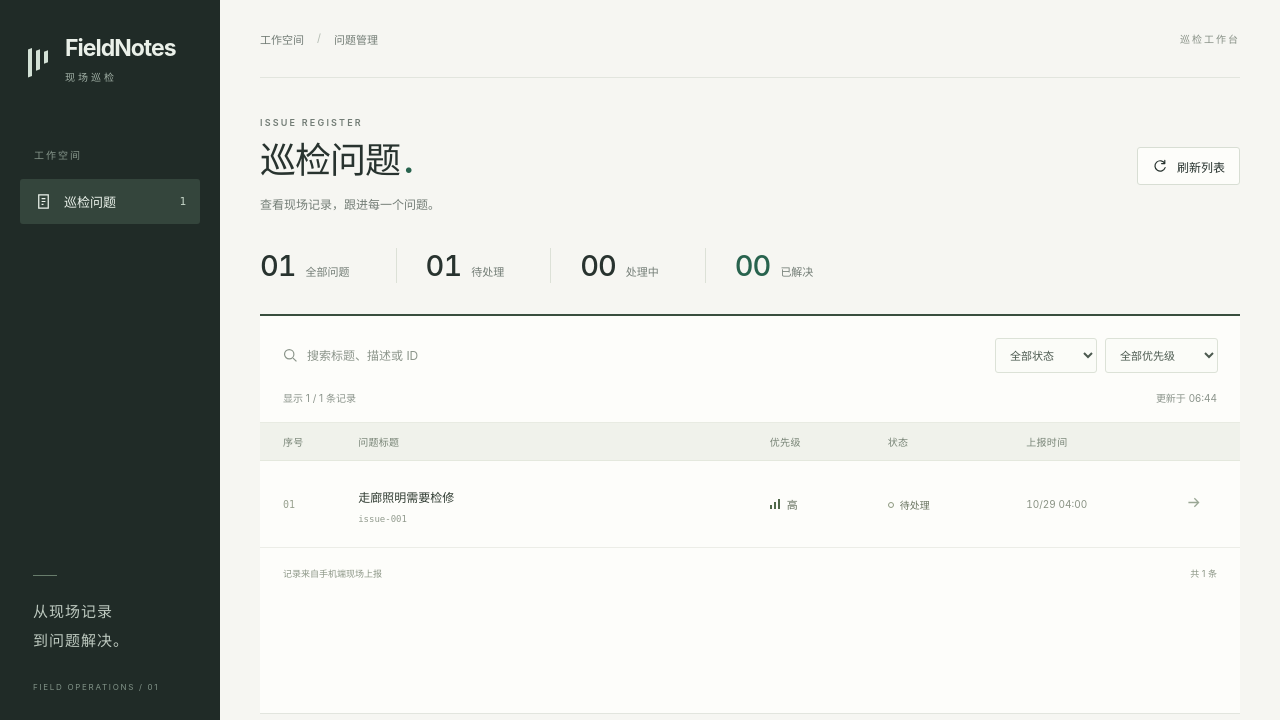
Test: 巡检工作台 › closes a selection removed on refresh and retains old records when refresh fails
This screenshot has width=1280, height=720.
Step 1. Click the button with aria-label "查看问题：走廊照明" → (406, 498), box left=358, top=484, right=454, bottom=512
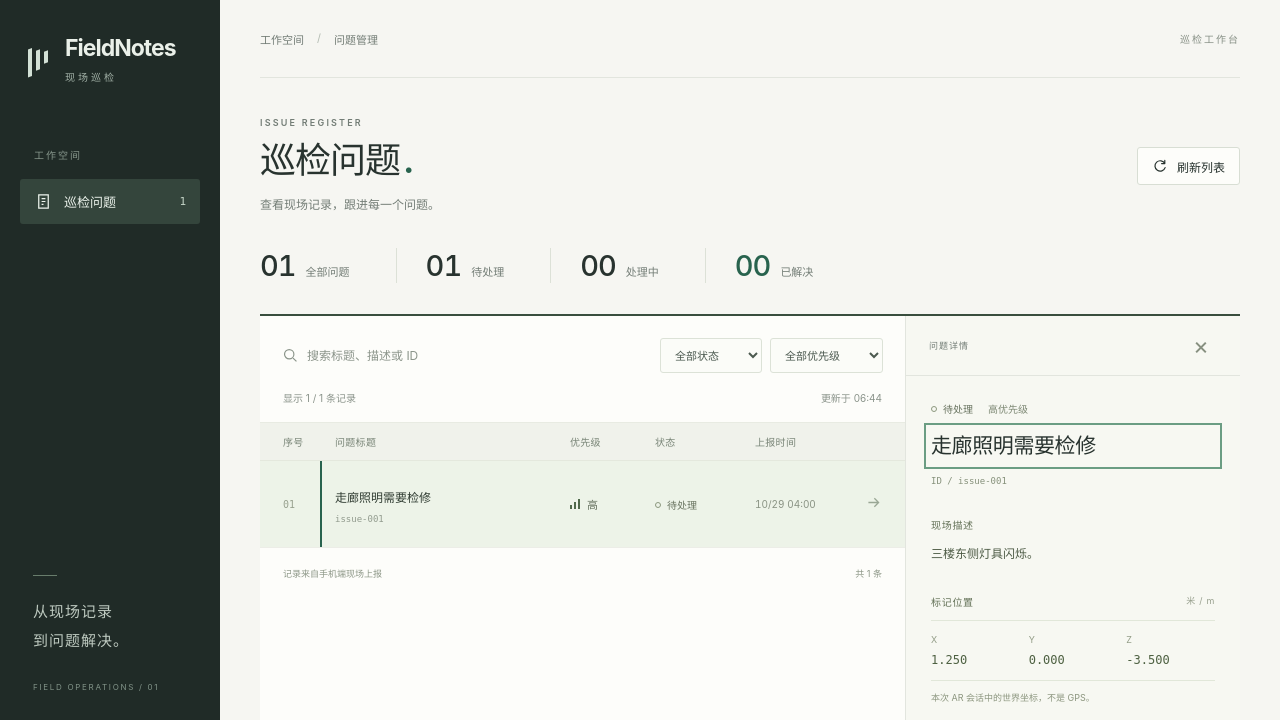
Step 2. Click the button "刷新列表" → (1188, 166), box left=1137, top=147, right=1240, bottom=185
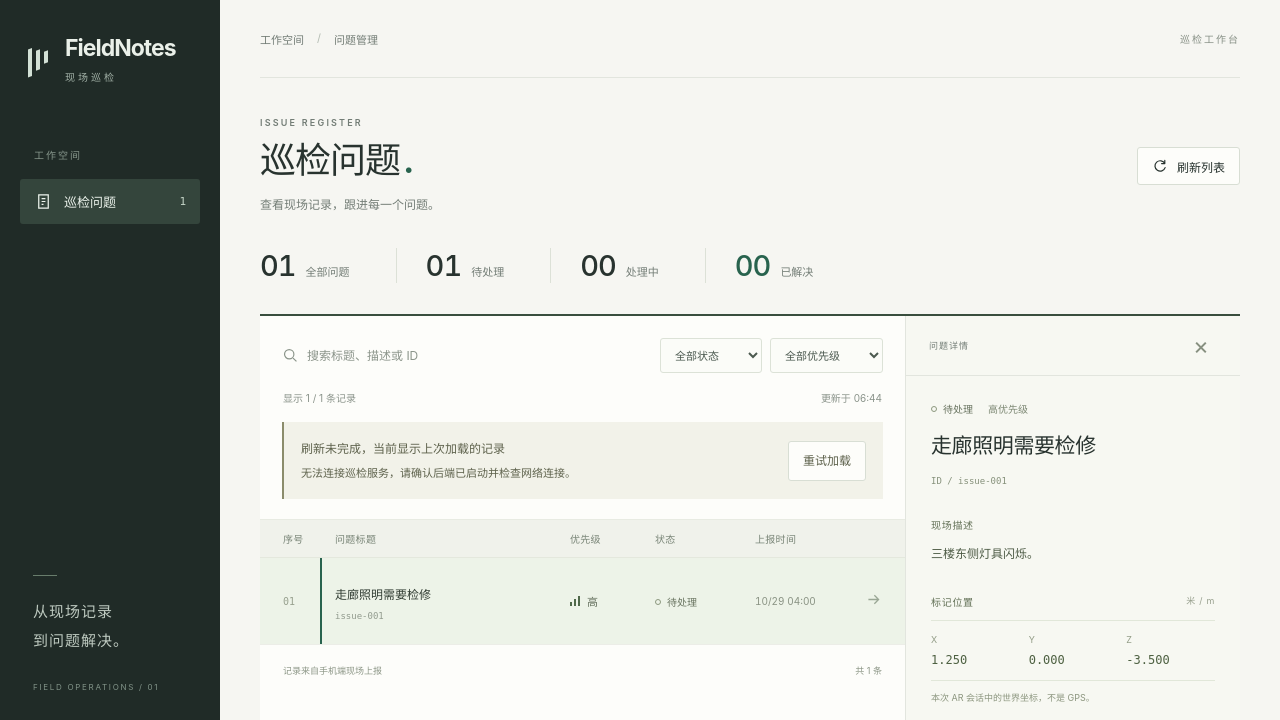
Now the message shows "当前显示上次加载的记录", box left=301, top=441, right=505, bottom=456
Step 3. Click the button "重试加载" → (827, 461), box left=788, top=441, right=866, bottom=481
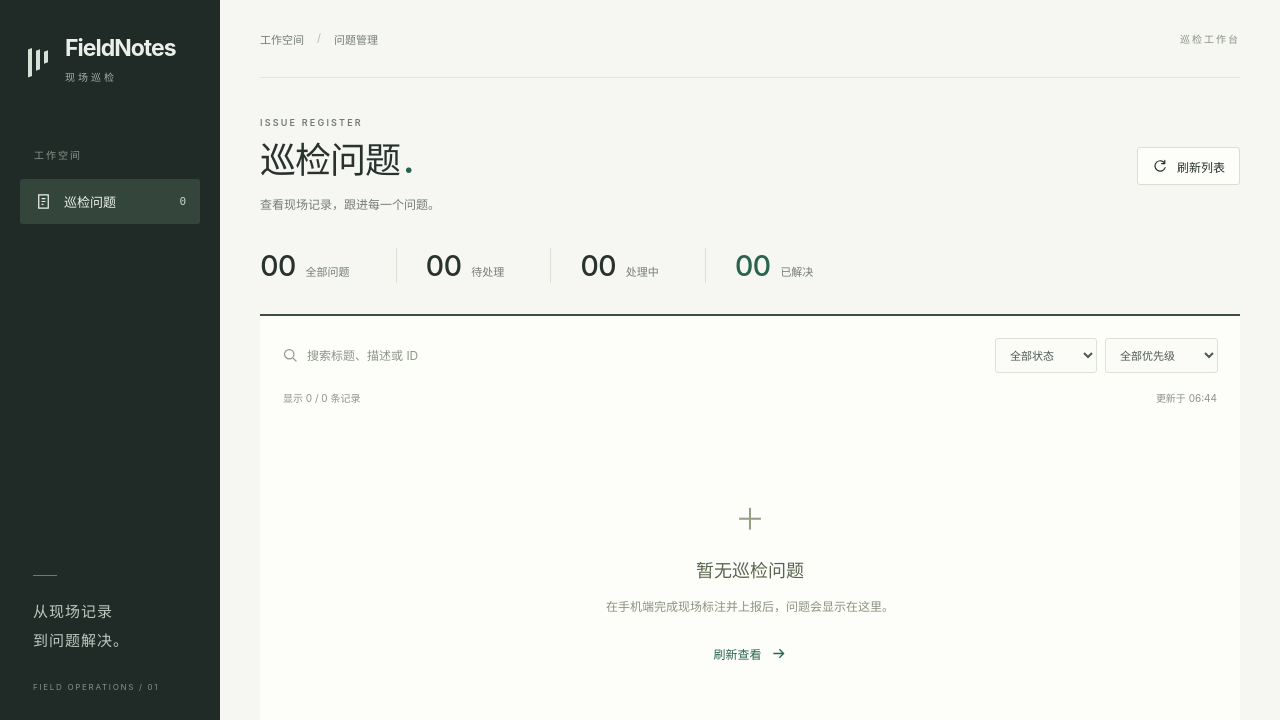
Now the heading "暂无巡检问题" is shown, box left=696, top=558, right=804, bottom=584
Now the text "问题详情" is gone
